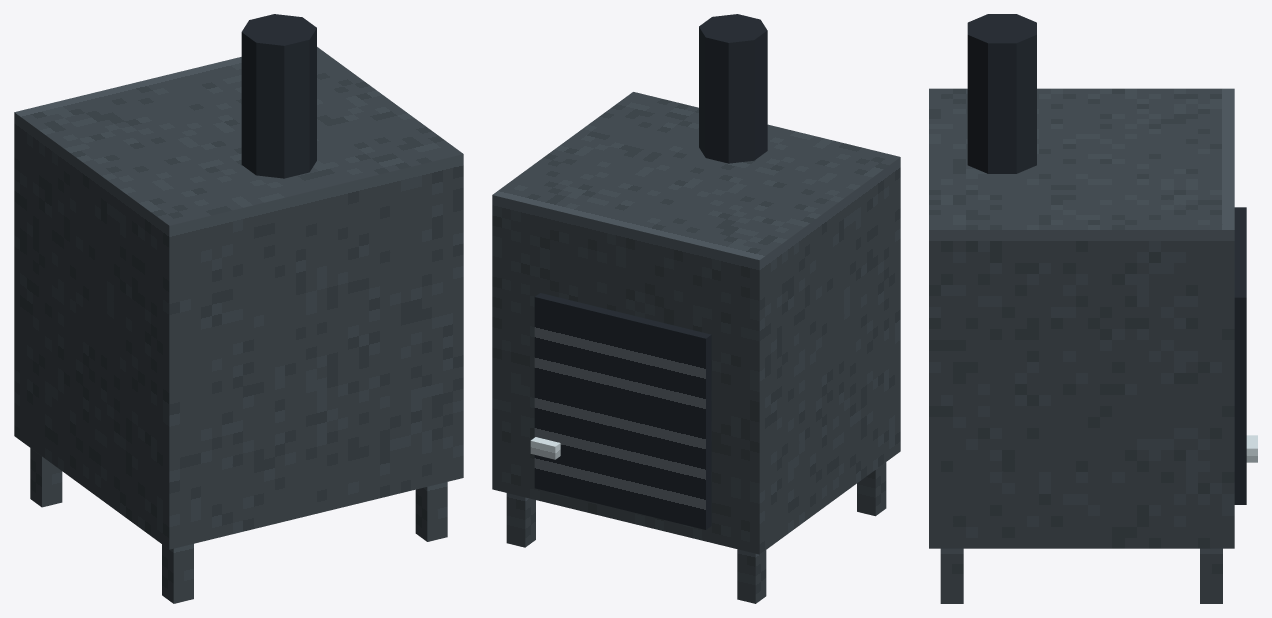
File: f_woodstove.glb
3 renders of one model, left to right at view 1: azimuth 30°, elevation 25°; view 2: azimuth 150°, elevation 25°; view 3: azimuth 270°, elevation 25°, orthographic. The views are drawn at different scales.
Visible parts, largest first — view 1: block_firebox, block_flue, block_leg-0.24999999999999997-0.225, block_leg--0.24999999999999997-0.225, block_leg--0.24999999999999997--0.225; view 2: block_firebox, block_firebox-door, block_flue, block_leg--0.24999999999999997--0.225, block_leg-0.24999999999999997--0.225, block_leg--0.24999999999999997-0.225, block_door-latch; view 3: block_firebox, block_flue, block_firebox-door, block_leg-0.24999999999999997-0.225, block_leg-0.24999999999999997--0.225.
Part boxes in pixels (bbox=[...]): block_firebox: bbox=[14, 47, 463, 549]; block_flue: bbox=[241, 14, 316, 178]; block_leg-0.24999999999999997-0.225: bbox=[415, 482, 447, 541]; block_leg--0.24999999999999997-0.225: bbox=[162, 544, 193, 603]; block_leg--0.24999999999999997--0.225: bbox=[30, 448, 62, 507]; block_firebox: bbox=[492, 92, 900, 554]; block_firebox-door: bbox=[534, 293, 711, 529]; block_flue: bbox=[699, 14, 767, 163]; block_leg--0.24999999999999997--0.225: bbox=[737, 549, 766, 603]; block_leg-0.24999999999999997--0.225: bbox=[506, 493, 535, 547]; block_leg--0.24999999999999997-0.225: bbox=[857, 462, 886, 516]; block_door-latch: bbox=[530, 437, 560, 459]; block_firebox: bbox=[929, 88, 1234, 548]; block_flue: bbox=[967, 14, 1036, 173]; block_firebox-door: bbox=[1234, 207, 1246, 504]; block_leg-0.24999999999999997-0.225: bbox=[940, 548, 963, 603]; block_leg-0.24999999999999997--0.225: bbox=[1200, 548, 1222, 603].
Bounding box in the file's own units: 0.58 × 0.975 × 0.5705.
1 material, 1 textured.
